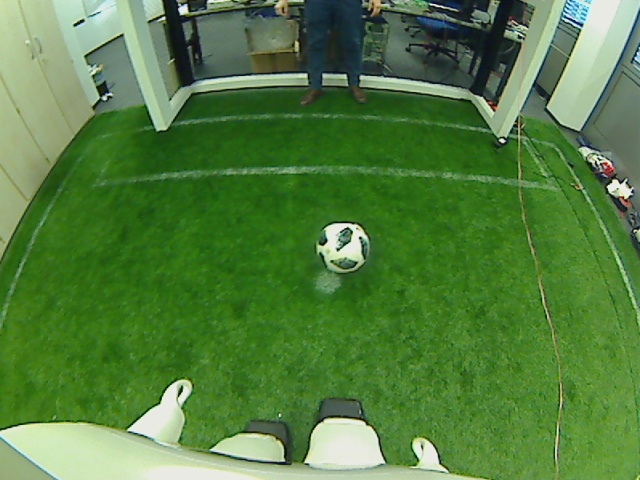ball: (314, 221, 372, 276)
